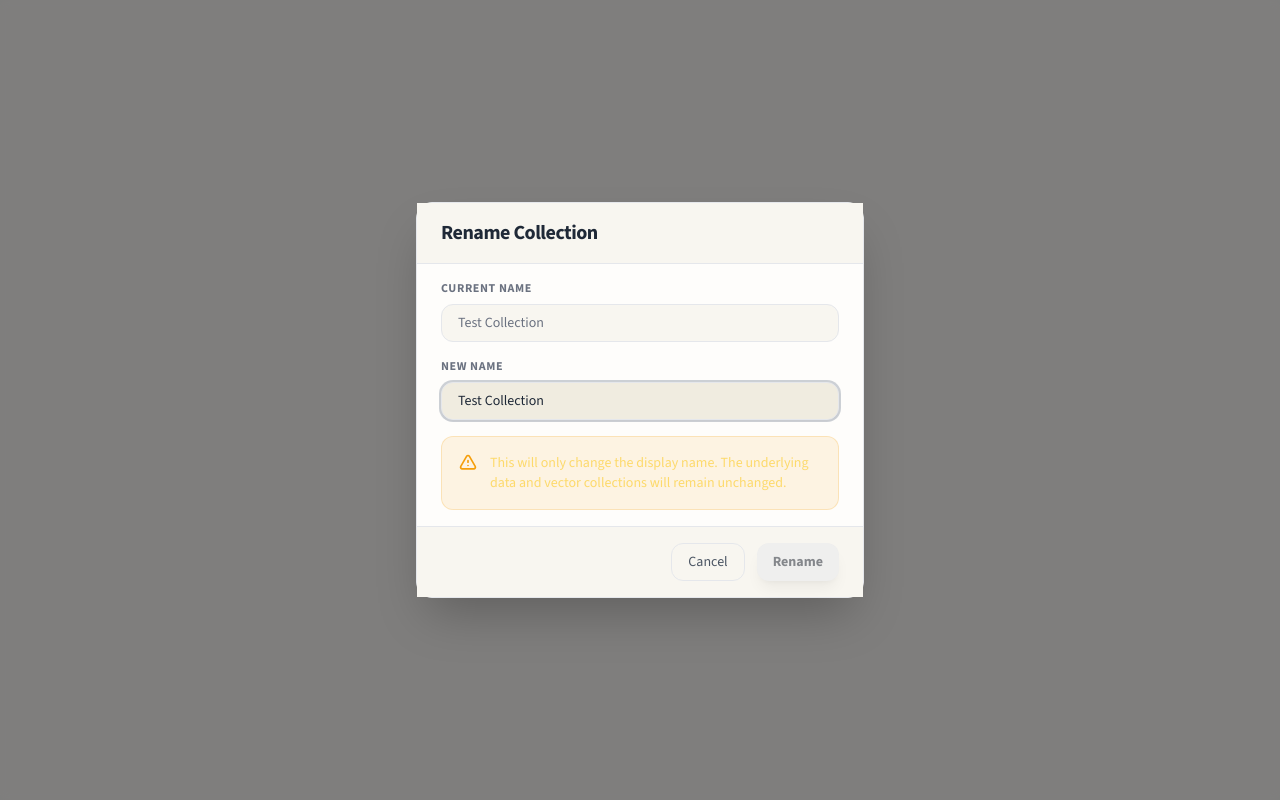
Scenario: RenameCollectionModal › Error Handling › should show generic error when rename fails without detail
The width and height of the screenshot is (1280, 800).
Note: Change name and submit
Clear the field labelled "New Name" at {"x": 640, "y": 401}, box [441,382,839,420]
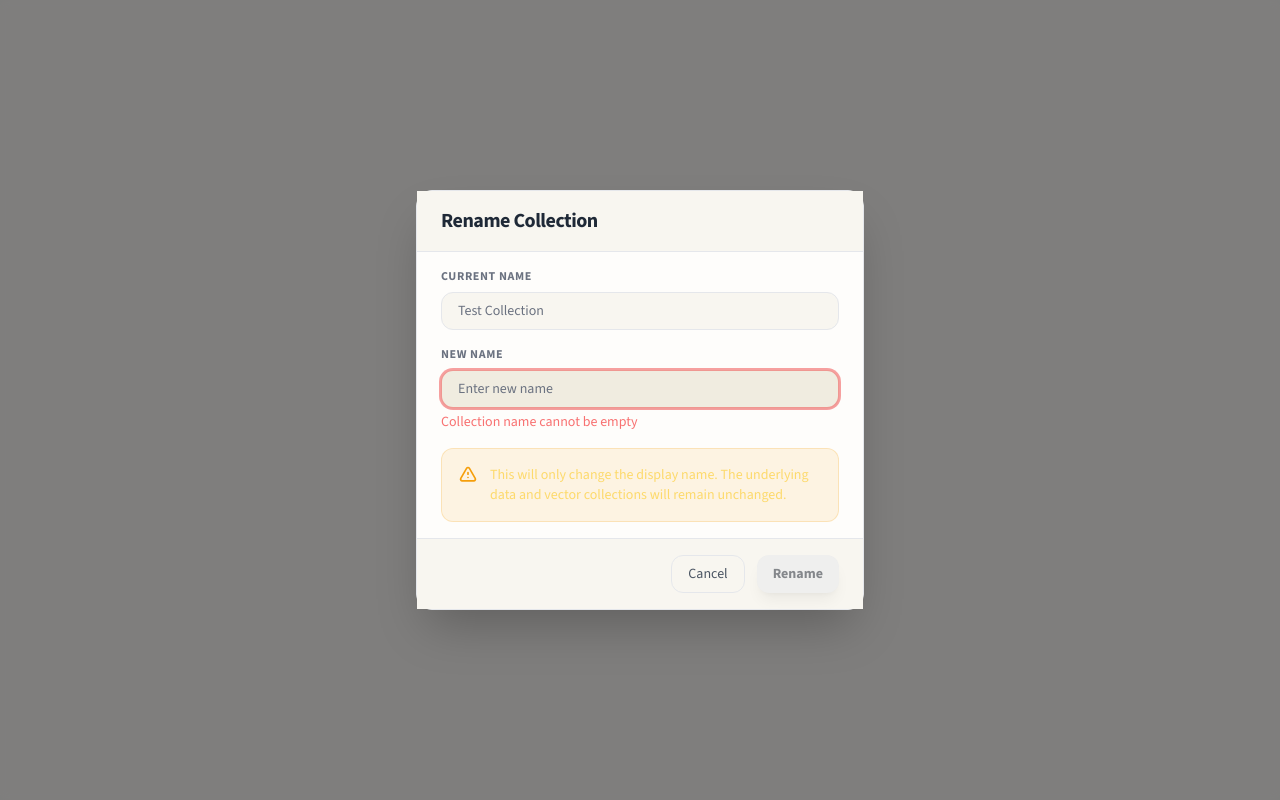
Type "New Name" into the field labelled "New Name" at {"x": 640, "y": 389}, box [441,370,839,408]
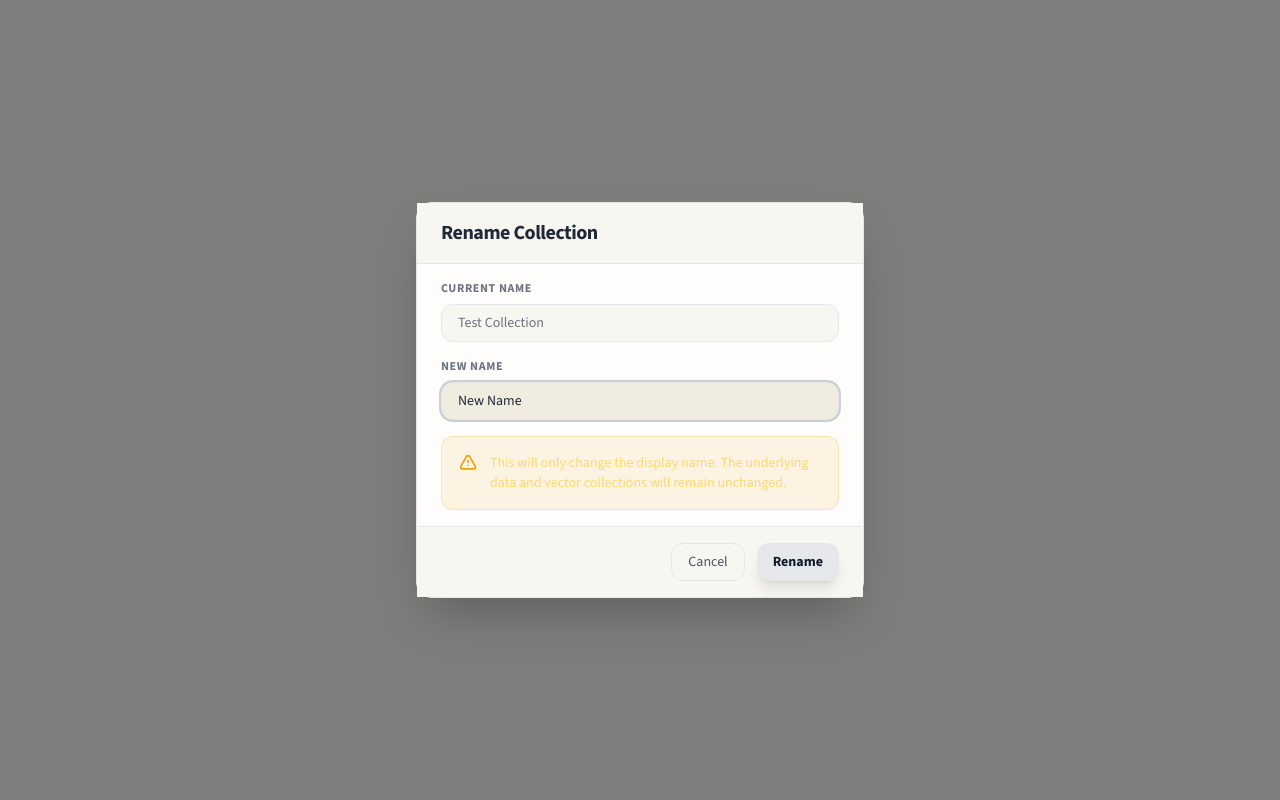
Click the button "Rename" at {"x": 798, "y": 562}, box [757,543,839,581]
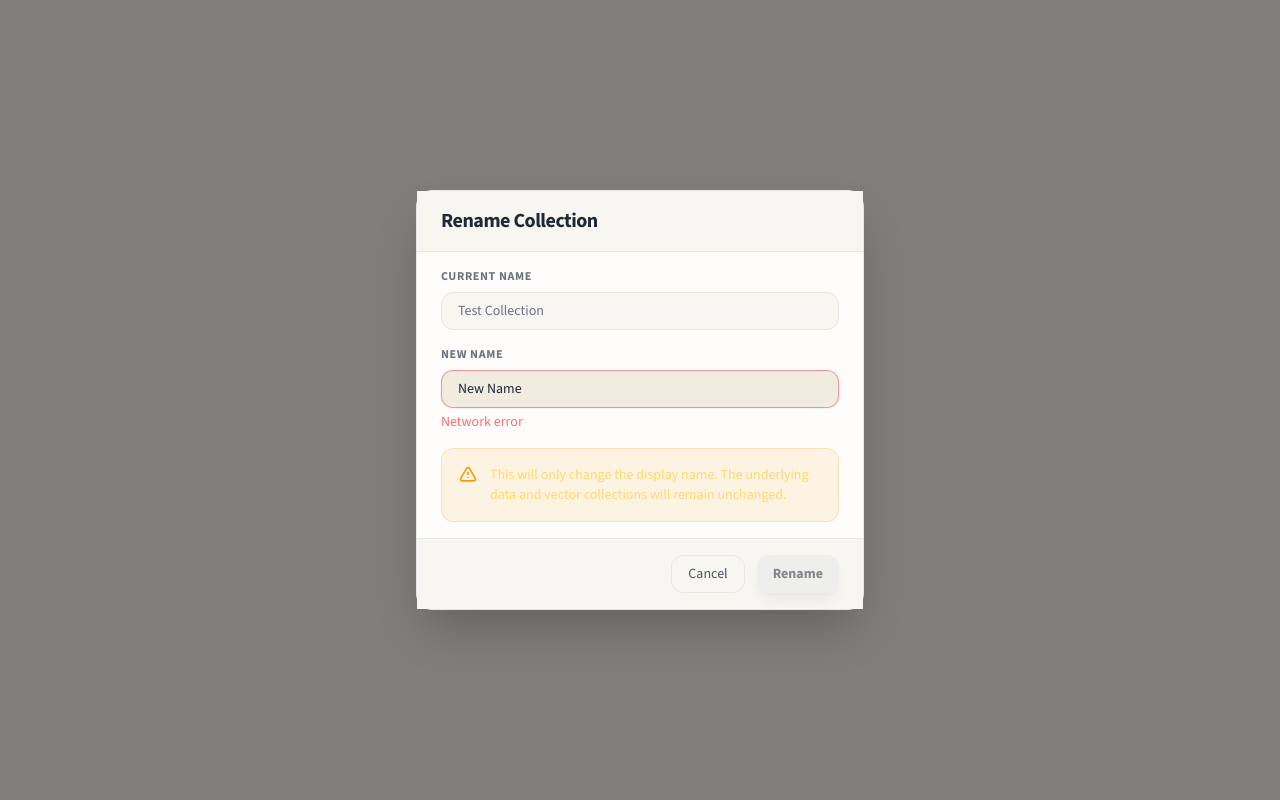
Expected: the text "Network error" is shown, [441,412,523,431]
